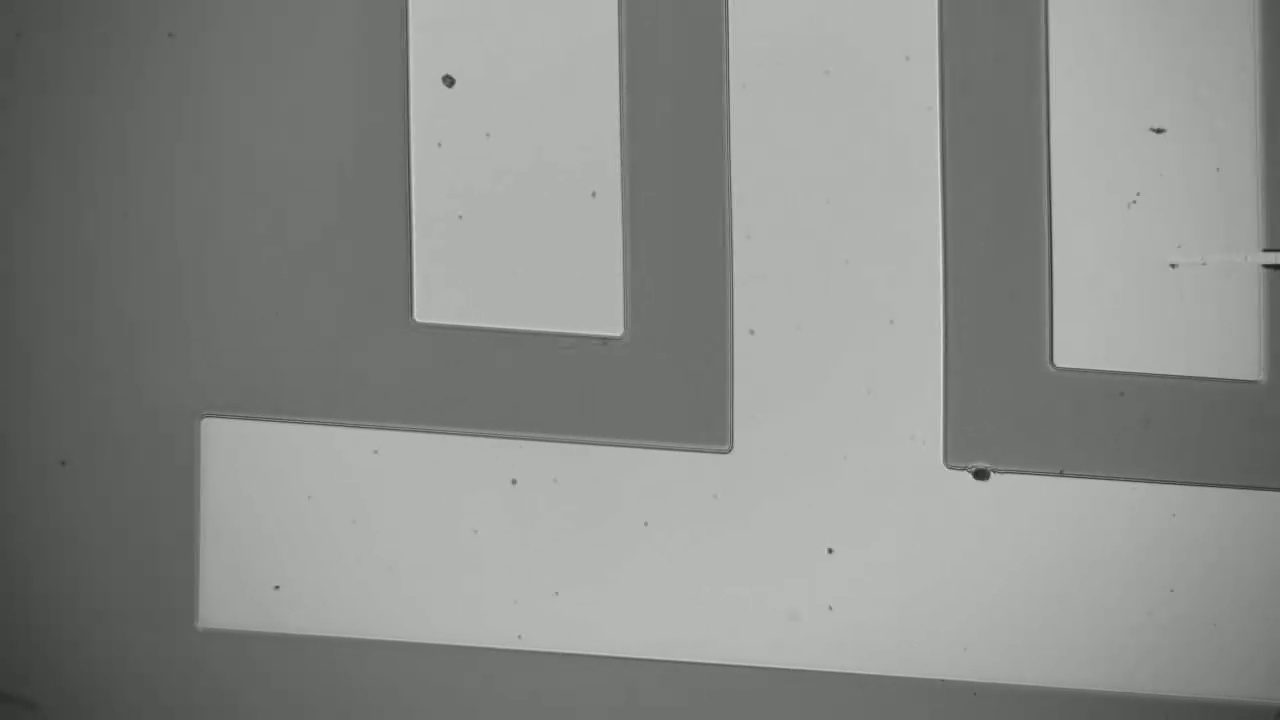Short_circuit: (1235, 232, 1280, 281)
